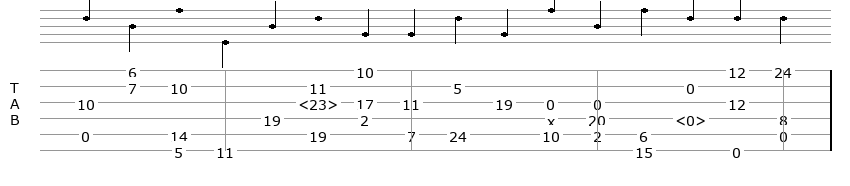0: (81, 127, 94, 141), (546, 95, 559, 109), (593, 95, 606, 109), (686, 79, 699, 93), (732, 143, 745, 157), (779, 127, 792, 141)
10: (77, 95, 99, 109), (170, 79, 192, 93), (356, 63, 378, 77), (542, 127, 564, 141)
11: (216, 143, 238, 157), (309, 79, 331, 93), (402, 95, 424, 109)
12: (728, 63, 750, 77), (728, 95, 750, 109)
14: (170, 127, 192, 141)
15: (635, 143, 657, 157)
17: (356, 95, 378, 109)
19: (263, 111, 285, 125), (309, 127, 331, 141), (495, 95, 517, 109)
2: (360, 111, 373, 125), (593, 127, 606, 141)
20: (588, 111, 610, 125)
24: (449, 127, 471, 141), (774, 63, 796, 77)
5: (174, 143, 187, 157), (453, 79, 466, 93)
6: (128, 63, 141, 77), (639, 127, 652, 141)
7: (128, 79, 141, 93), (407, 127, 420, 141)
8: (779, 111, 792, 125)
harmonic: (298, 95, 342, 109), (675, 111, 710, 125)
x: (547, 112, 559, 124)
